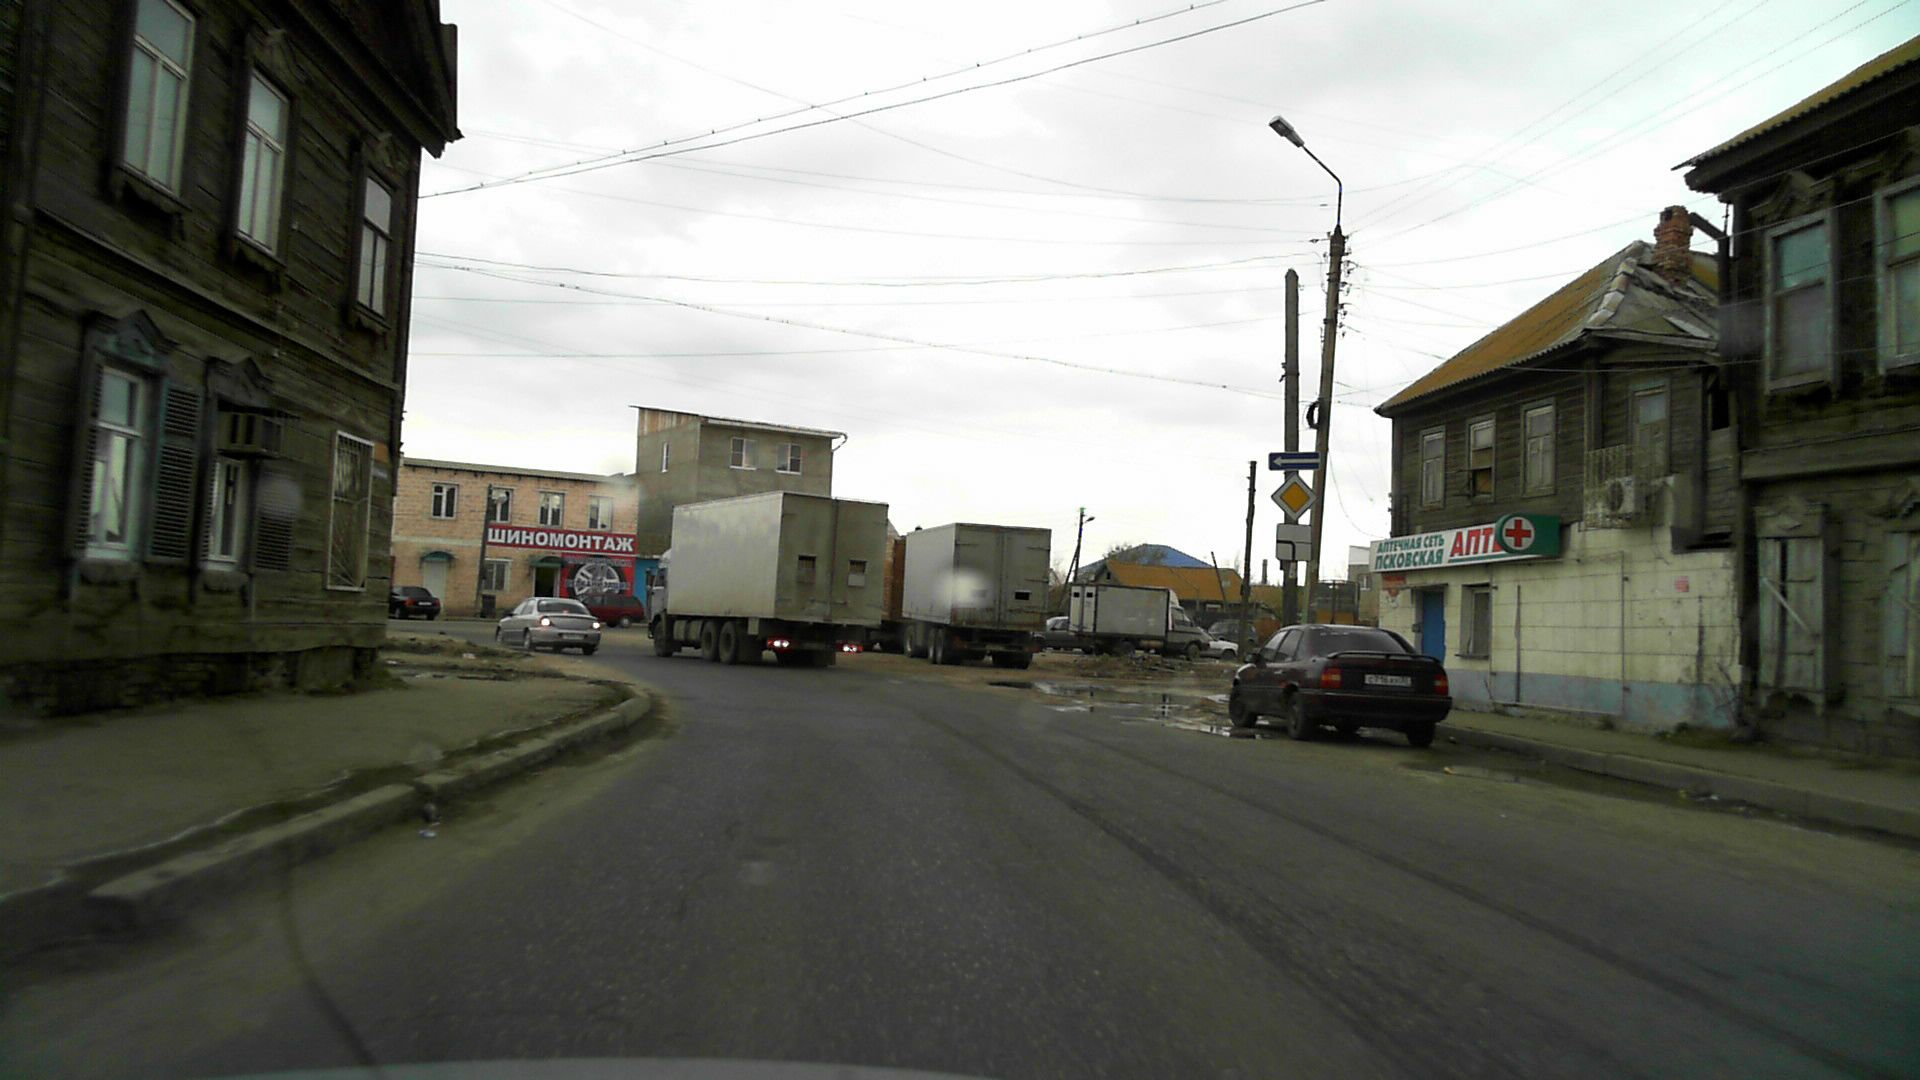One-Way Traffic: (1269, 452, 1320, 469)
